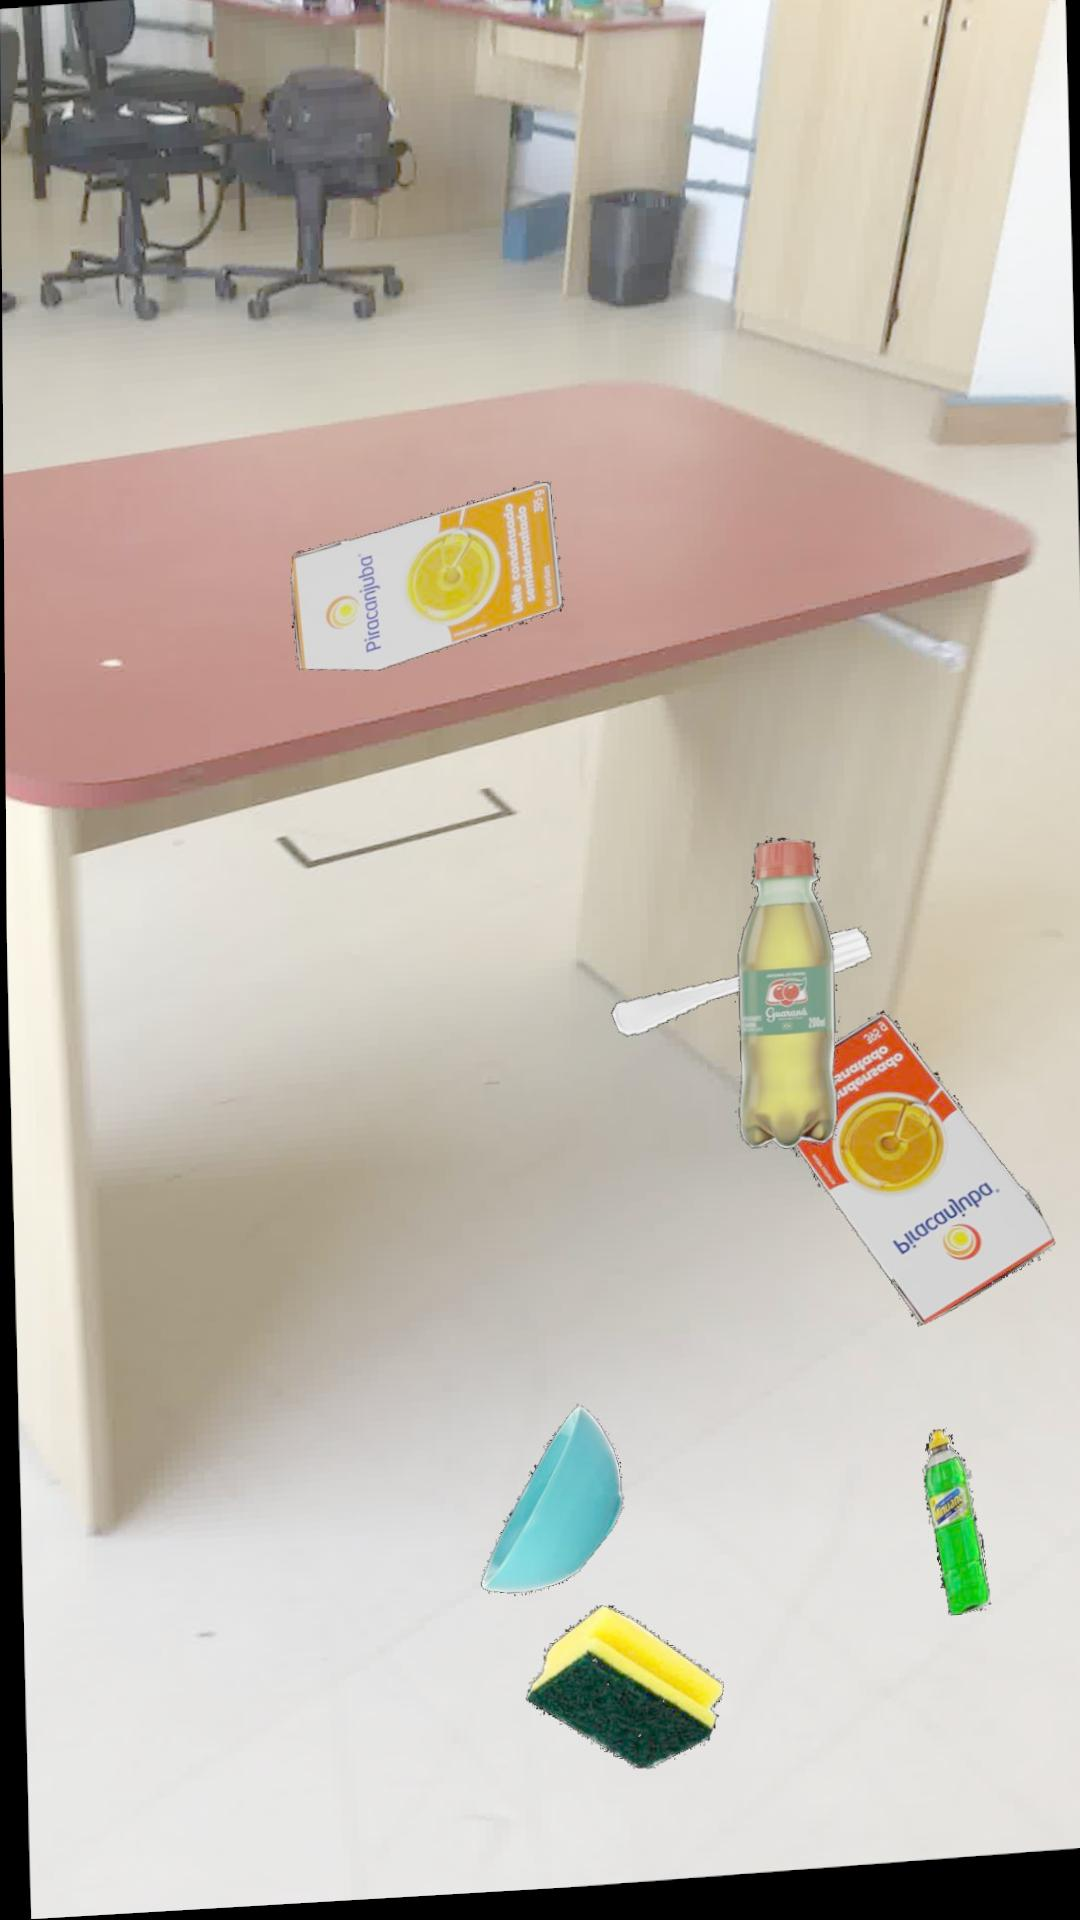bowl: (479, 1411, 622, 1598)
cleaner: (922, 1439, 989, 1626)
fork: (611, 936, 872, 1043)
guarana: (737, 845, 837, 1158)
sponge: (524, 1610, 721, 1775)
